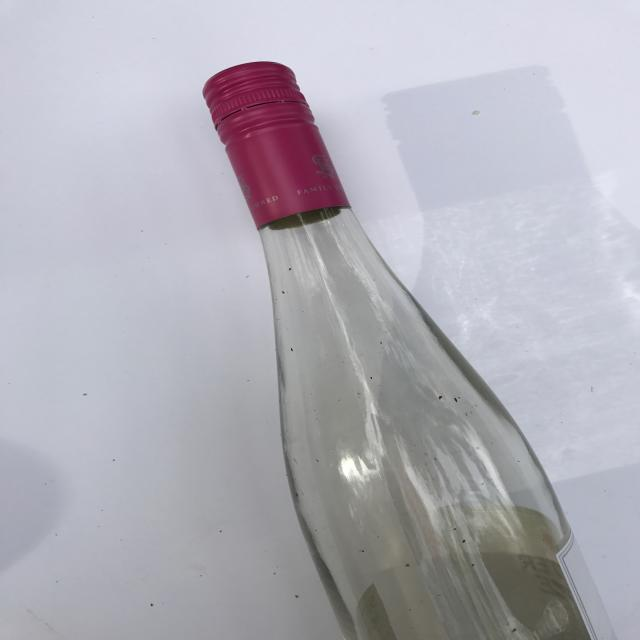glass: (197, 59, 623, 640)
